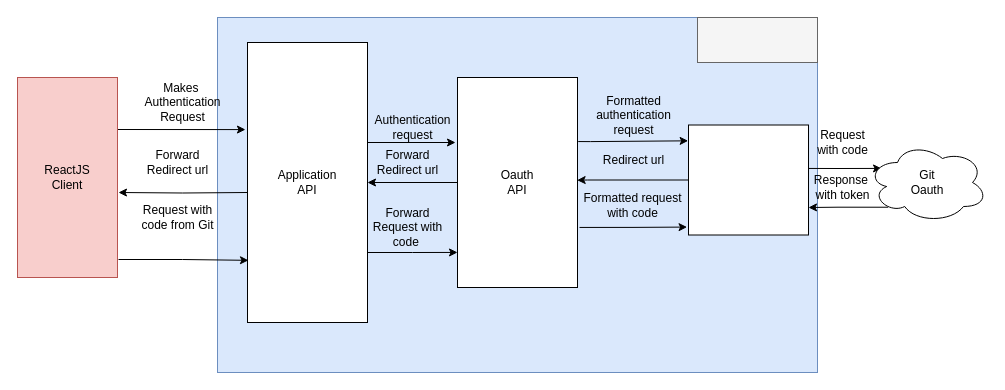
This 1005x390 diagram has some shape labels left out. The shapes that lost their labels are listed below. From the top down, each one's centre as x and y in pixels, then its label:
At (757,39): "Application host".
At (748,179): "Oauth service".
